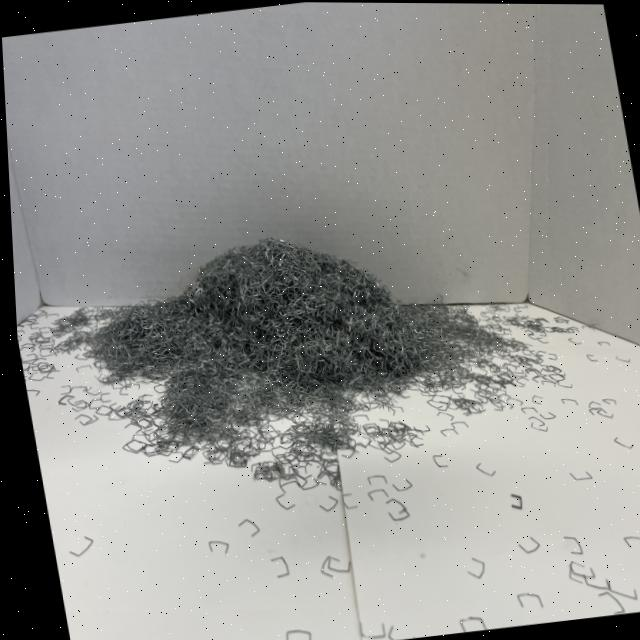staples: (38, 202, 552, 500)
